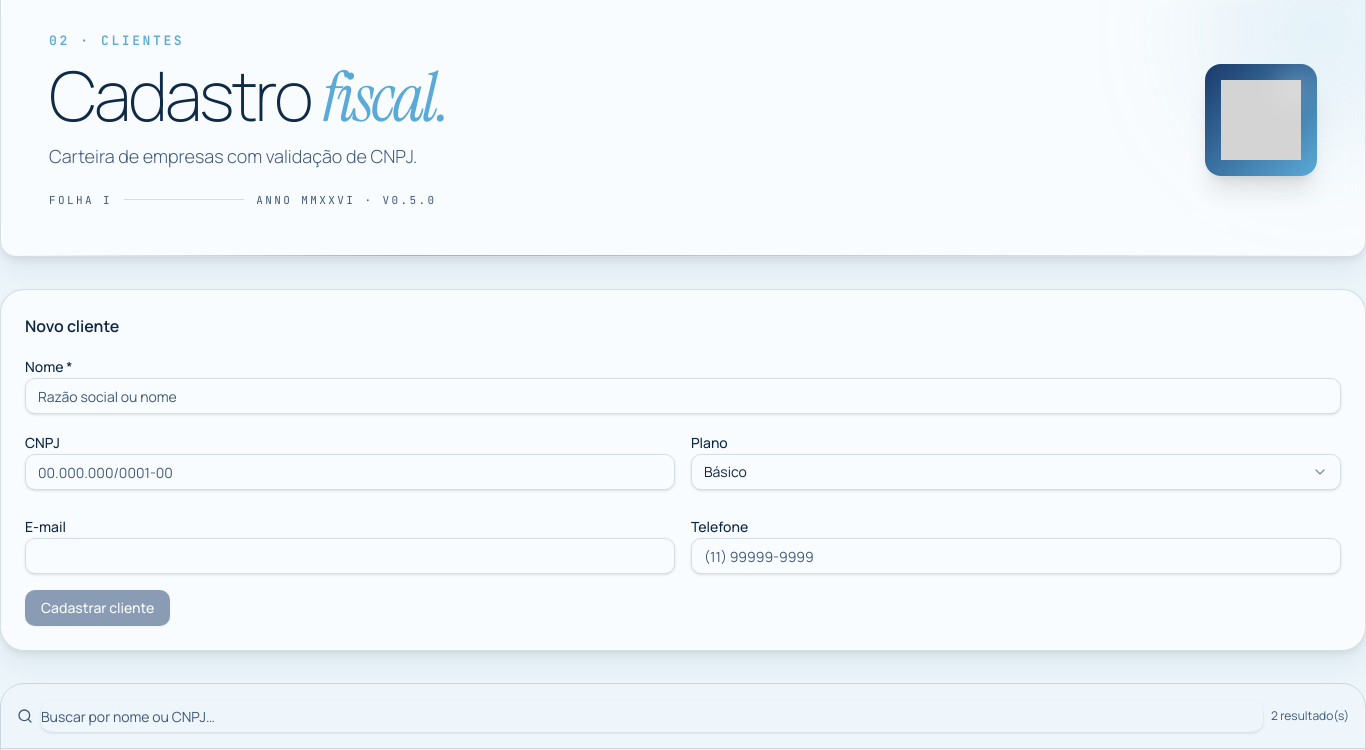
ClientesPage › filtra clientes por nome e mostra empty state especifico da busca
Type "beta" into the field with placeholder "Buscar por nome ou CNPJ…" at (652, 716), box [41, 700, 1263, 732]
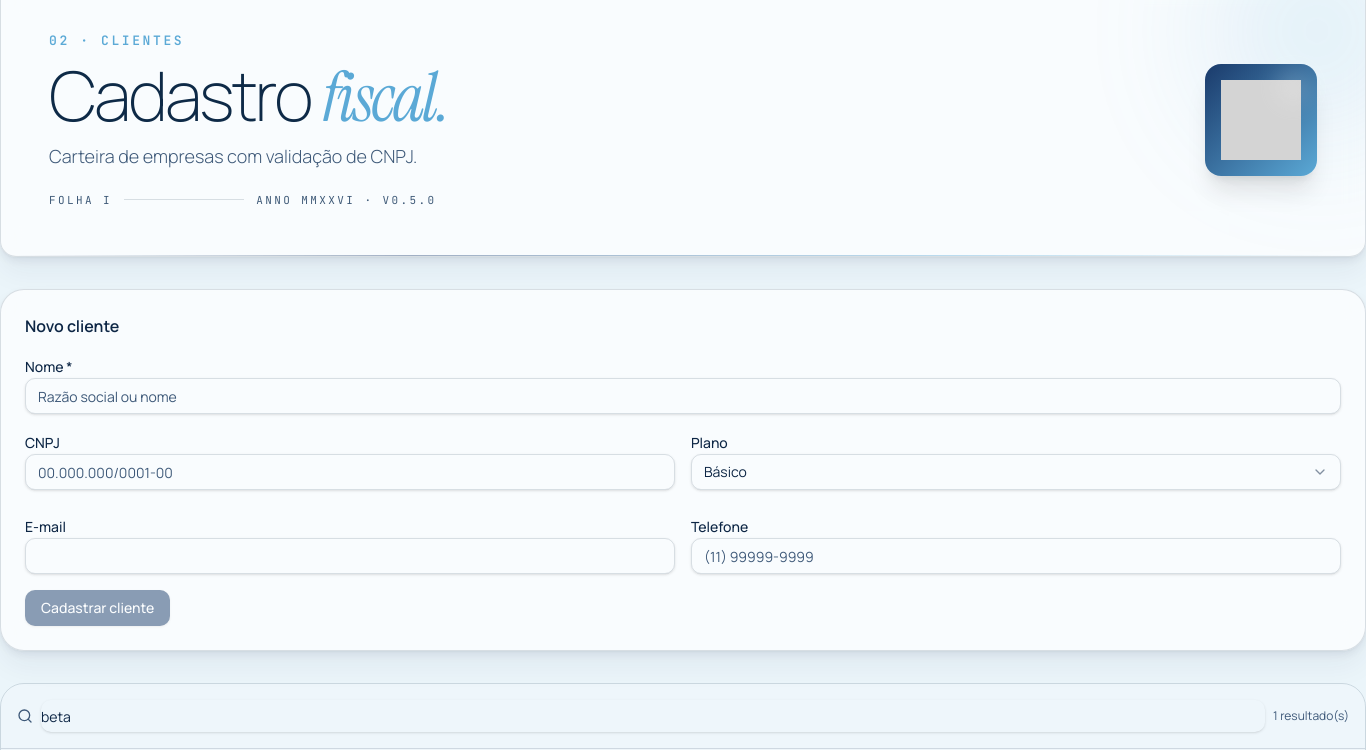
Now the text "1 resultado(s)" is shown, box [1273, 708, 1349, 724]
Busca sem resultados → empty state específico de busca.
Clear the field with placeholder "Buscar por nome ou CNPJ…" in the row of "resultado(s)" at (653, 716), box [41, 700, 1265, 732]
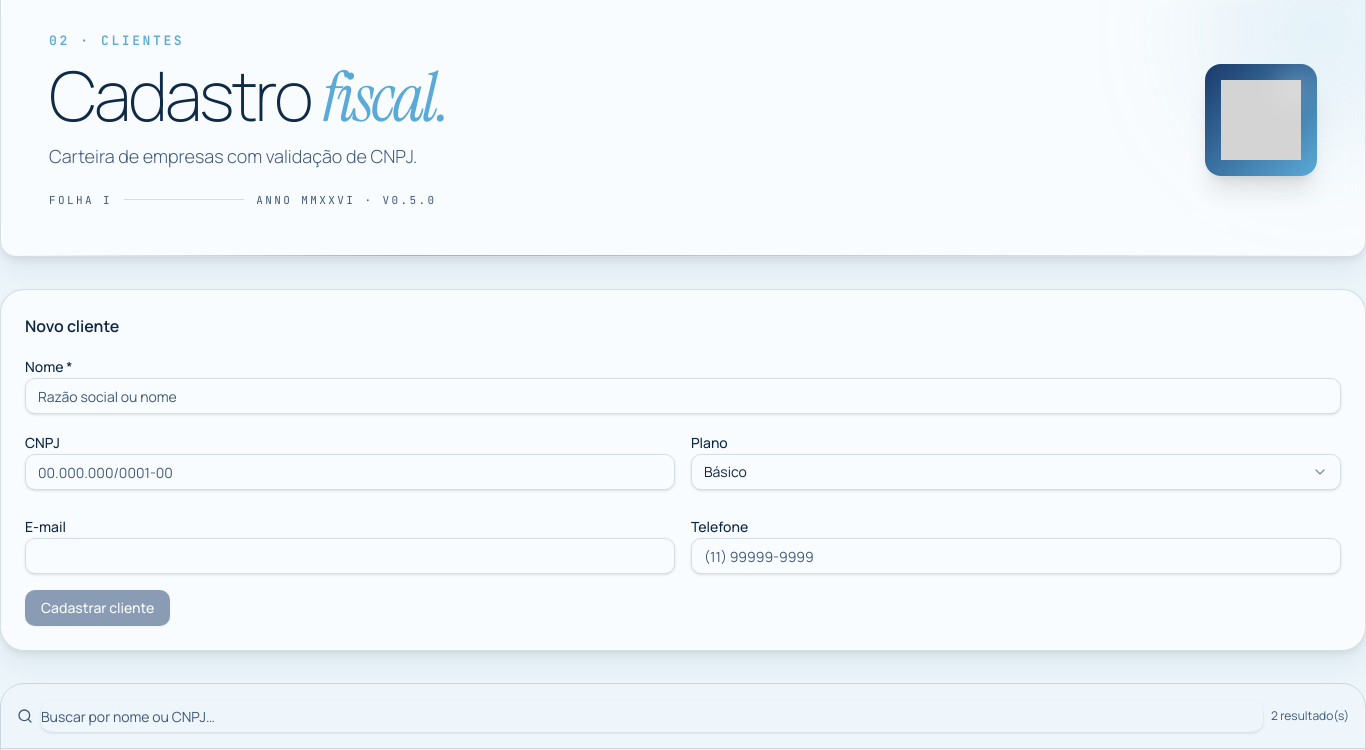
Type "inexistente" into the field with placeholder "Buscar por nome ou CNPJ…" at (652, 716), box [41, 700, 1263, 732]
(page scrolled)
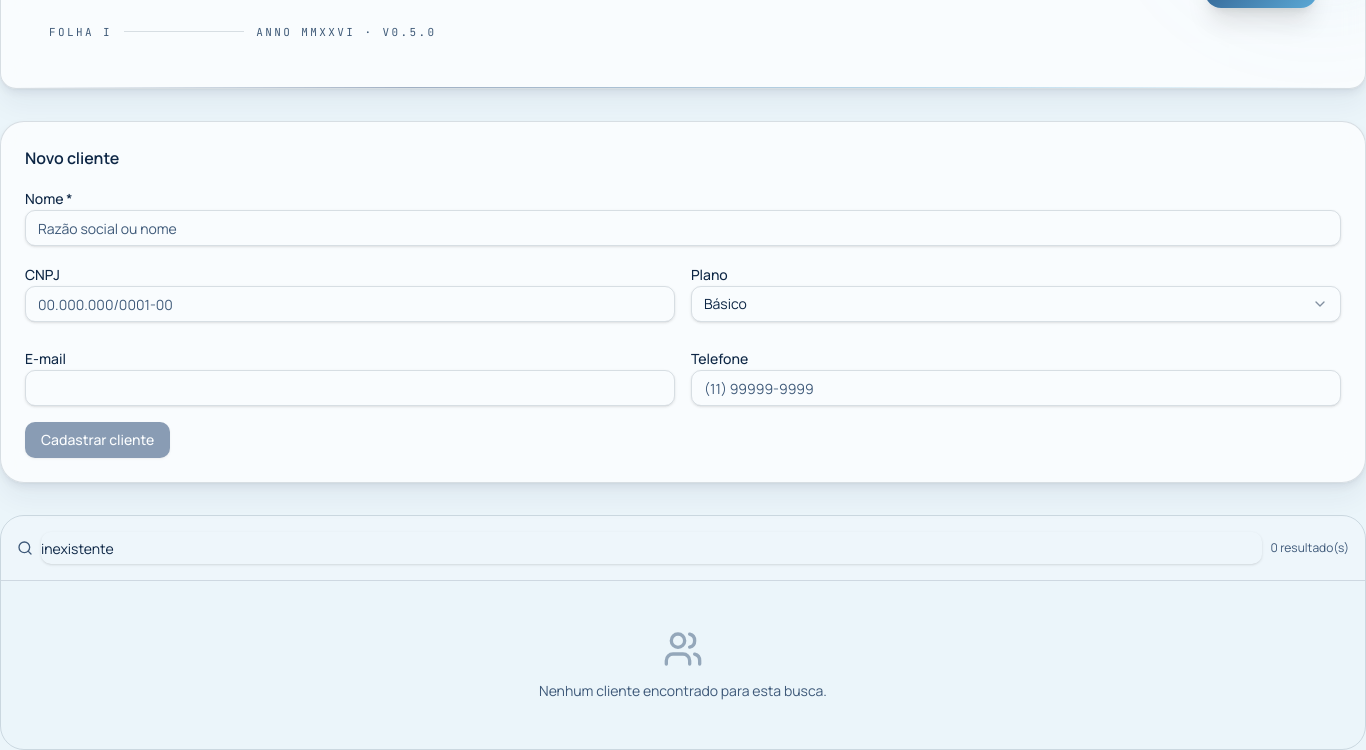
Now the text "Nenhum cliente encontrado para esta busca." is shown, box [539, 681, 827, 701]
